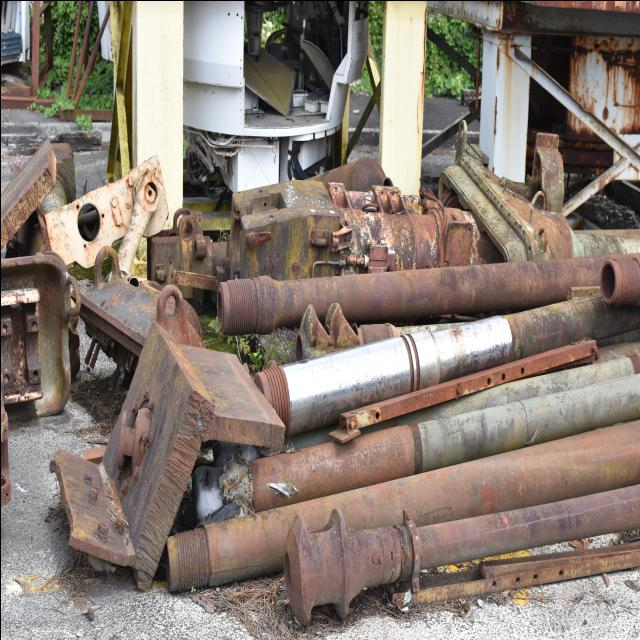entulho: (84, 328, 364, 606), (250, 276, 640, 431), (238, 368, 640, 512), (286, 461, 640, 619), (423, 356, 640, 586), (1, 146, 188, 402), (423, 120, 640, 326), (224, 172, 416, 350), (1, 253, 80, 403), (138, 201, 232, 319), (218, 276, 278, 334), (583, 248, 640, 304), (163, 523, 207, 592), (252, 363, 290, 432)
